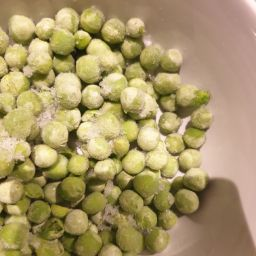Peas: (7, 5, 225, 256), (19, 26, 218, 211), (1, 58, 113, 255), (86, 11, 184, 84)
